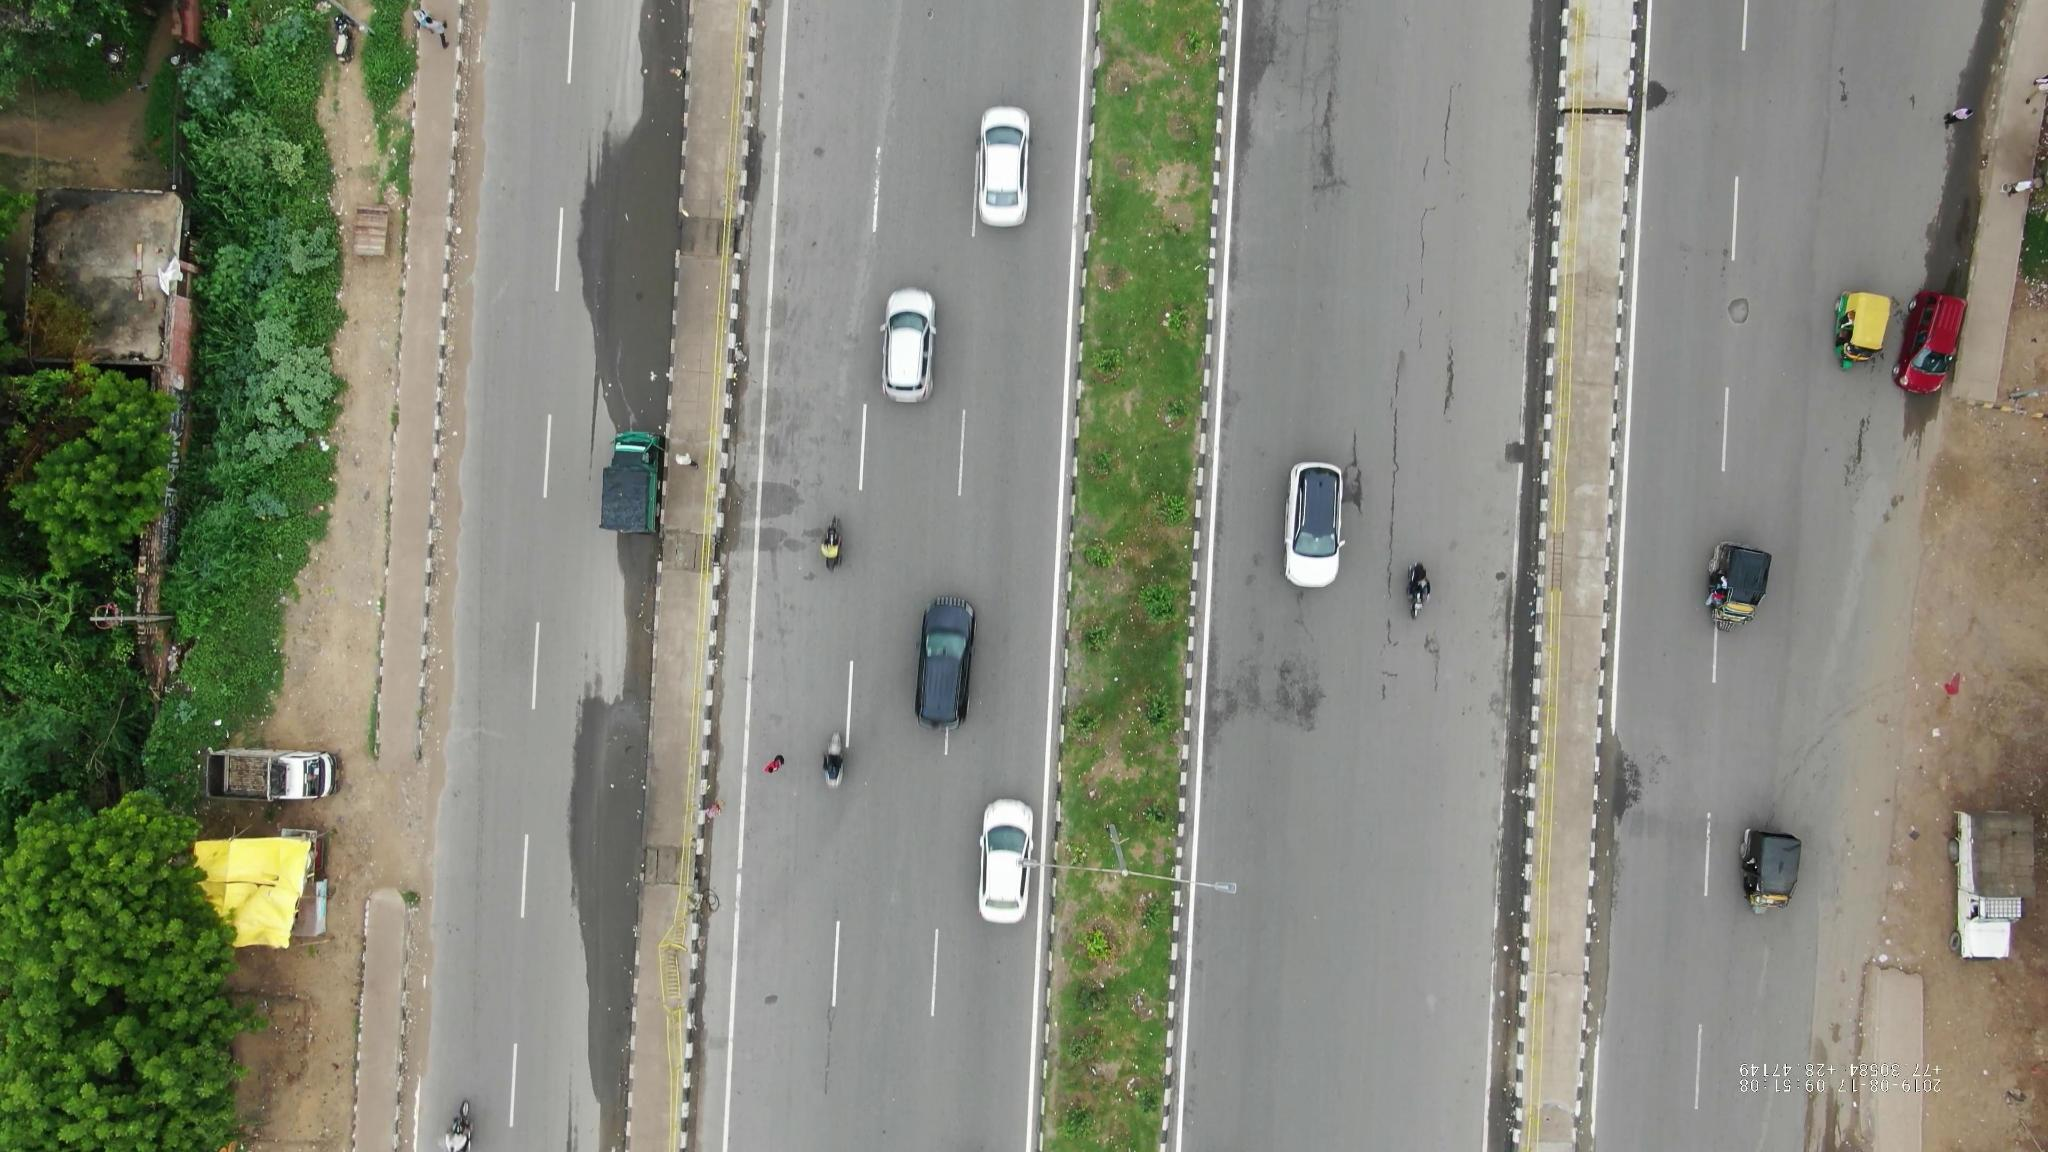Cracks: (1269, 20, 1370, 271)
Ravelling: (1409, 80, 1492, 453), (1350, 347, 1412, 733), (1831, 399, 1888, 494)
